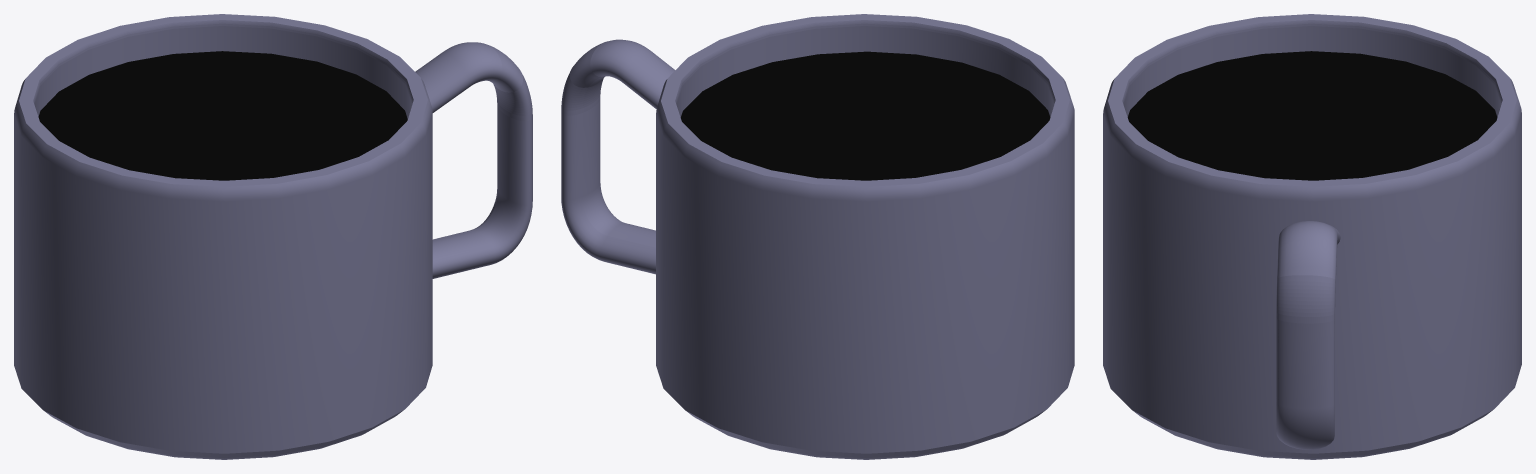
3 views of the same model, side by side, from view 1: azimuth 30°, elevation 25°; view 2: azimuth 150°, elevation 25°; view 3: azimuth 270°, elevation 25° (orthographic).
Parts seen in each view (by area): view 1: SketchUp, group_1, group_0; view 2: SketchUp, group_1, group_0; view 3: SketchUp, group_1, group_0.
Part boxes in pixels (x1,y1,x2,y2): SketchUp: (14,14,432,459); group_1: (38,51,407,180); group_0: (415,42,532,278); SketchUp: (656,14,1074,459); group_1: (680,51,1050,180); group_0: (561,39,675,274); SketchUp: (1103,14,1521,459); group_1: (1127,51,1497,180); group_0: (1276,221,1340,449).
Size of the model in its own units: 4.44 by 3.35 by 2.49.
